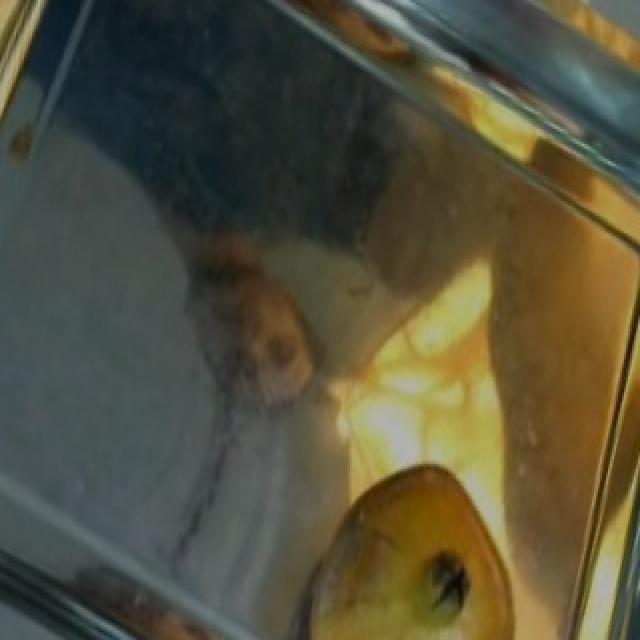fruit: (270, 436, 538, 640)
